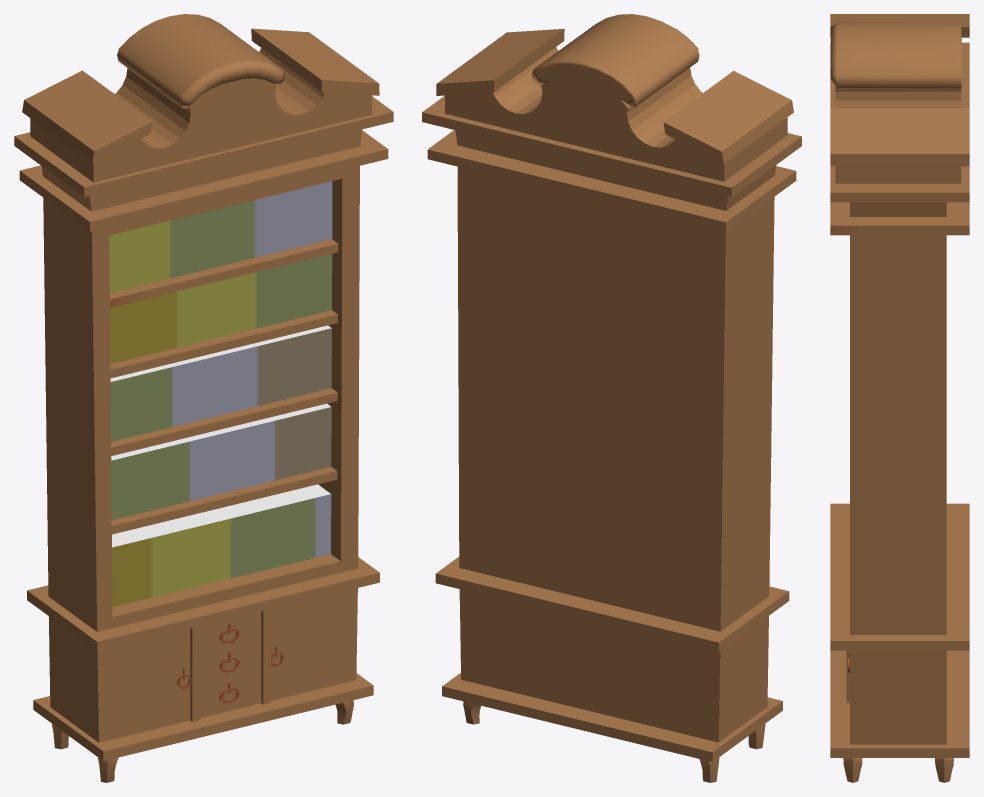
Rendered from BookShelf.fbx.
3 views of the same model, side by side, from view 1: azimuth 30°, elevation 25°; view 2: azimuth 150°, elevation 25°; view 3: azimuth 270°, elevation 25° (orthographic).
Parts seen in each view (by area): view 1: BookShelfe; view 2: BookShelfe; view 3: BookShelfe.
Boxes of the visible parts, x1,y1,x2,y2 form: BookShelfe: [14, 14, 393, 782]; BookShelfe: [422, 14, 801, 782]; BookShelfe: [830, 14, 969, 782].
Size of the model in its own units: 117 by 251 by 45.84.
